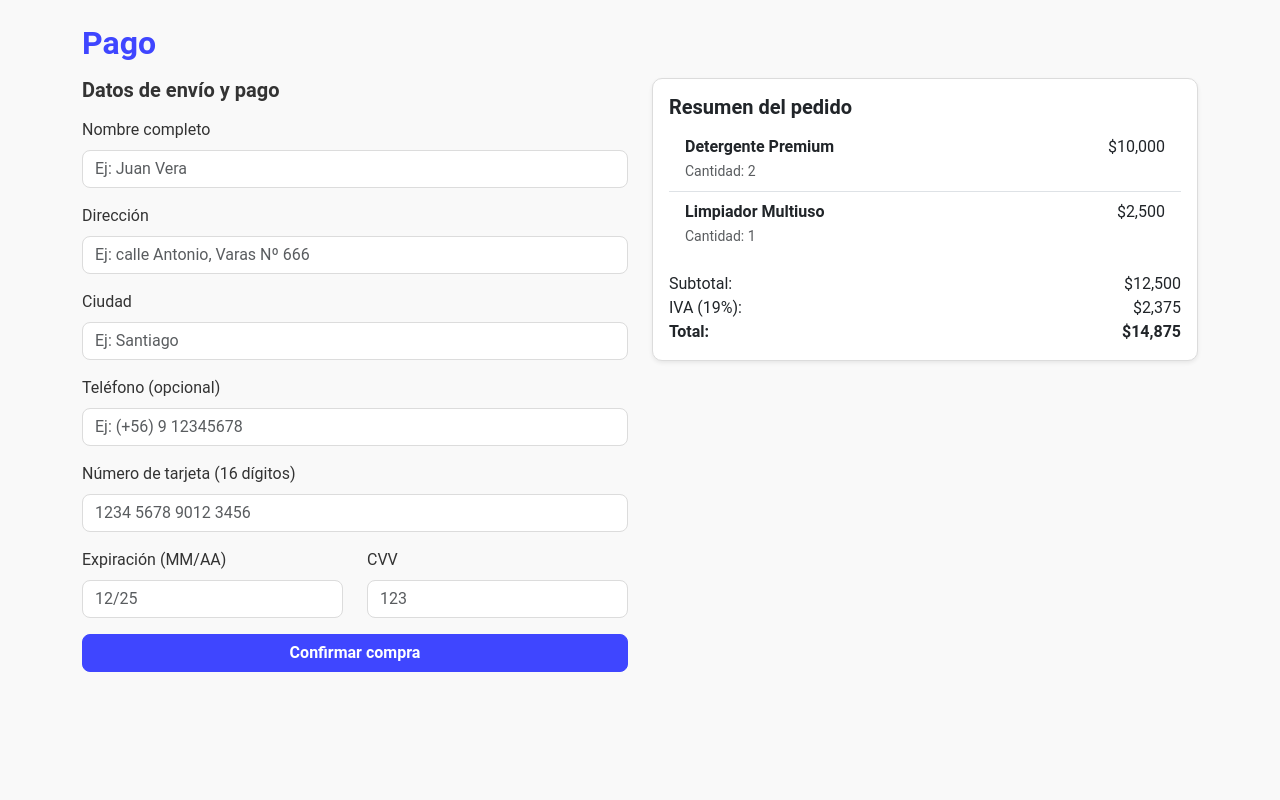
Test: Pago Page › Validaciones del formulario › debe mostrar error si el CVV es muy corto
The image size is (1280, 800).
In the field with placeholder "Ej: Juan Vera": (355, 169) 82,150 -> 628,188, type "Juan Pérez"
In the field with placeholder "Ej: calle Antonio, Varas Nº 666": (355, 255) 82,236 -> 628,274, type "Calle Principal 123"
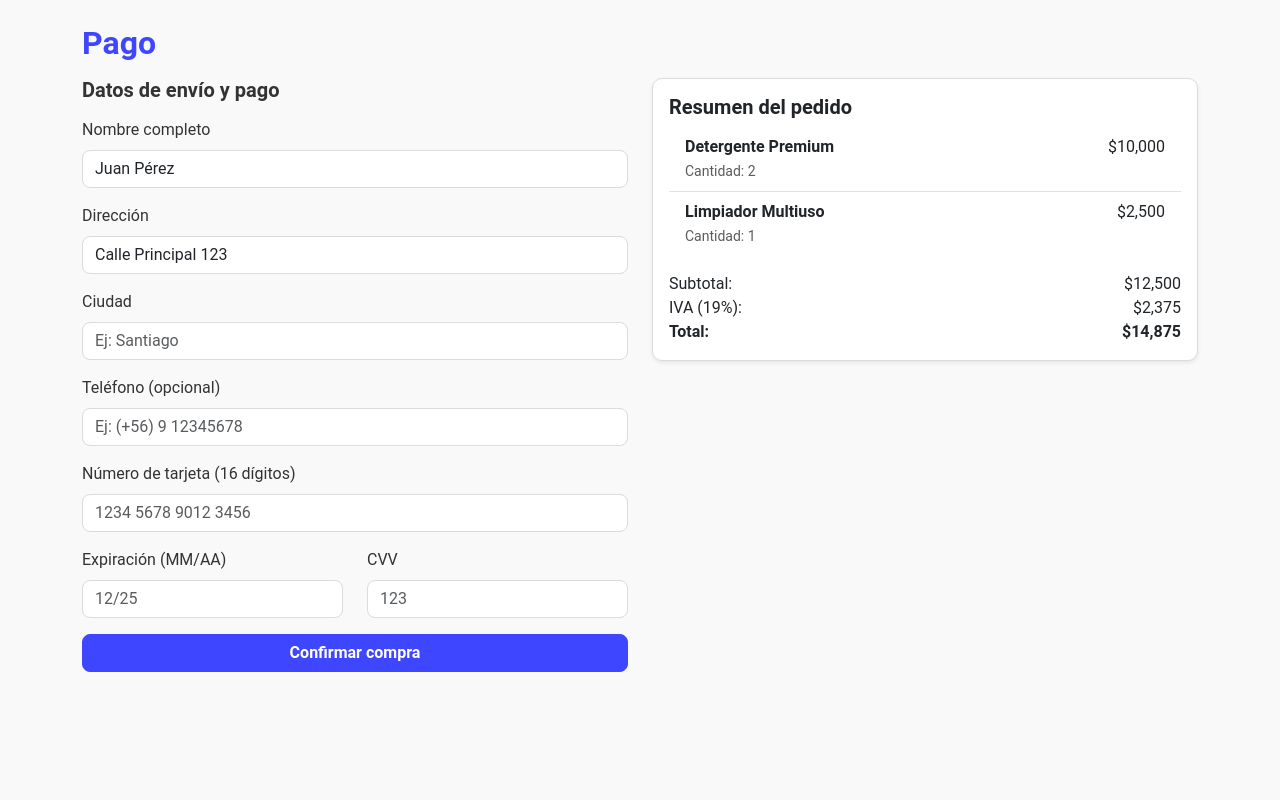
In the field with placeholder "Ej: Santiago": (355, 341) 82,322 -> 628,360, type "Santiago"
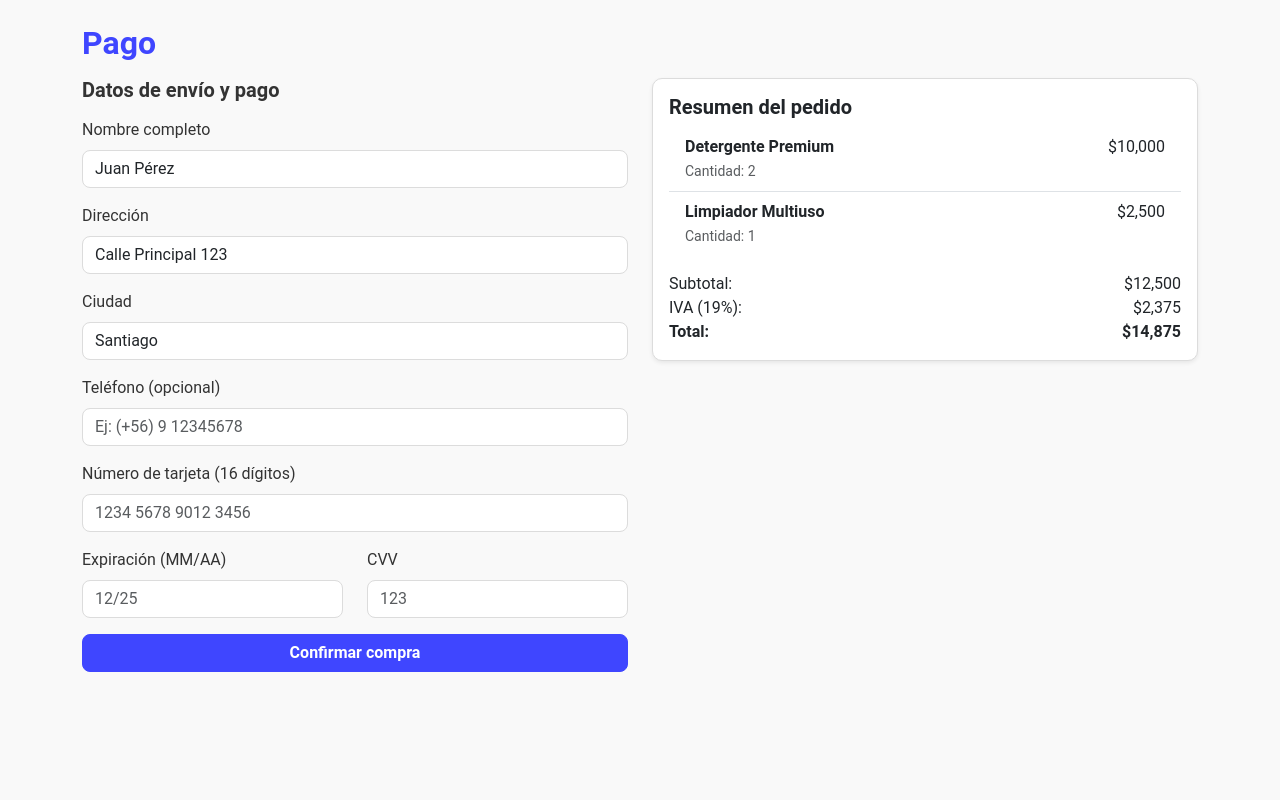
In the field with placeholder "1234 5678 9012 3456": (355, 513) 82,494 -> 628,532, type "1234567890123456"
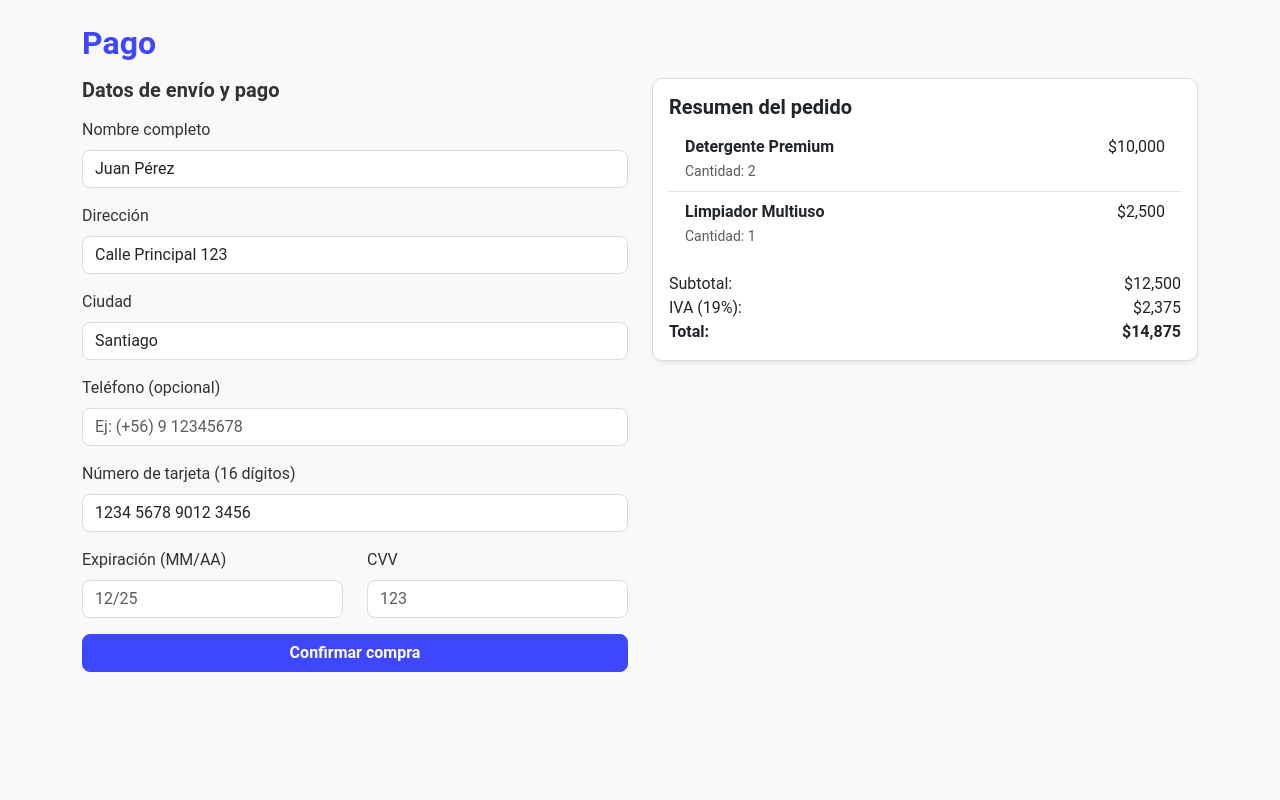
In the field with placeholder "12/25": (212, 599) 82,580 -> 343,618, type "1229"
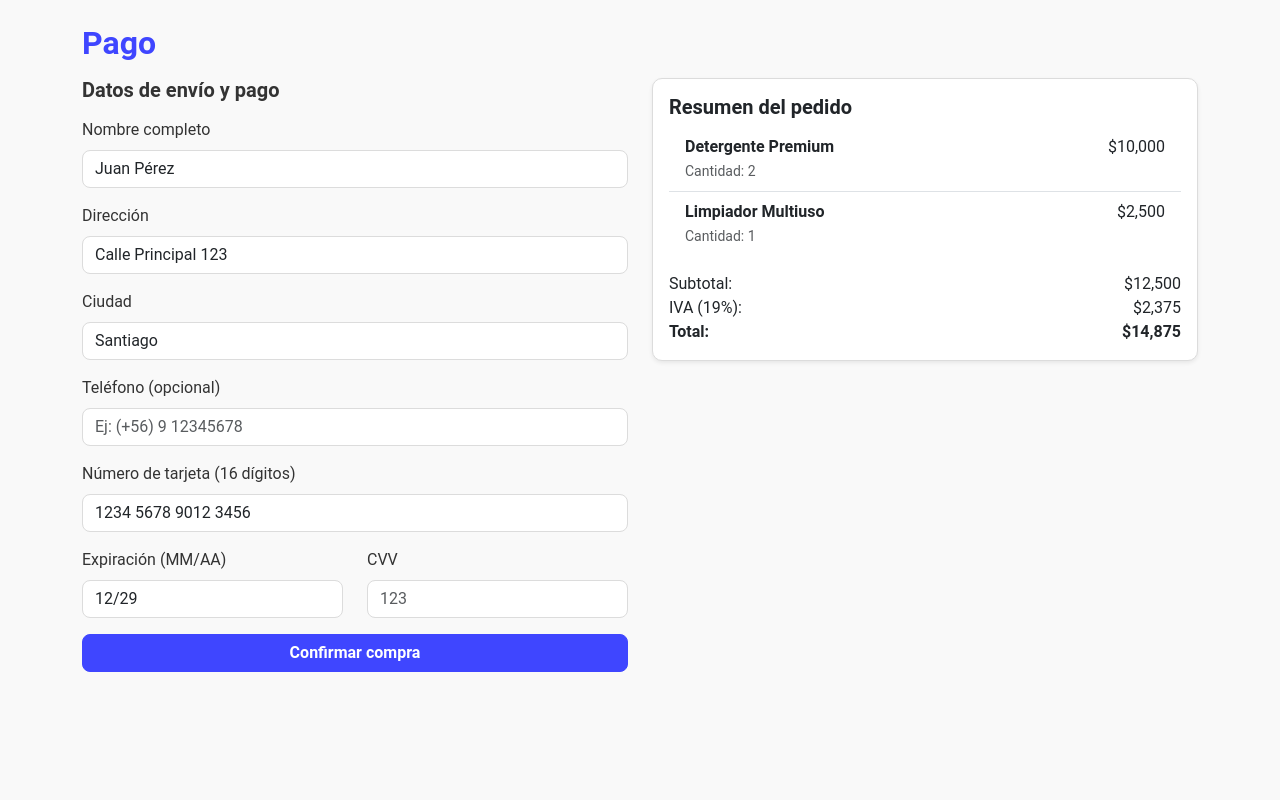
In the field with placeholder "123": (498, 599) 367,580 -> 628,618, type "12"
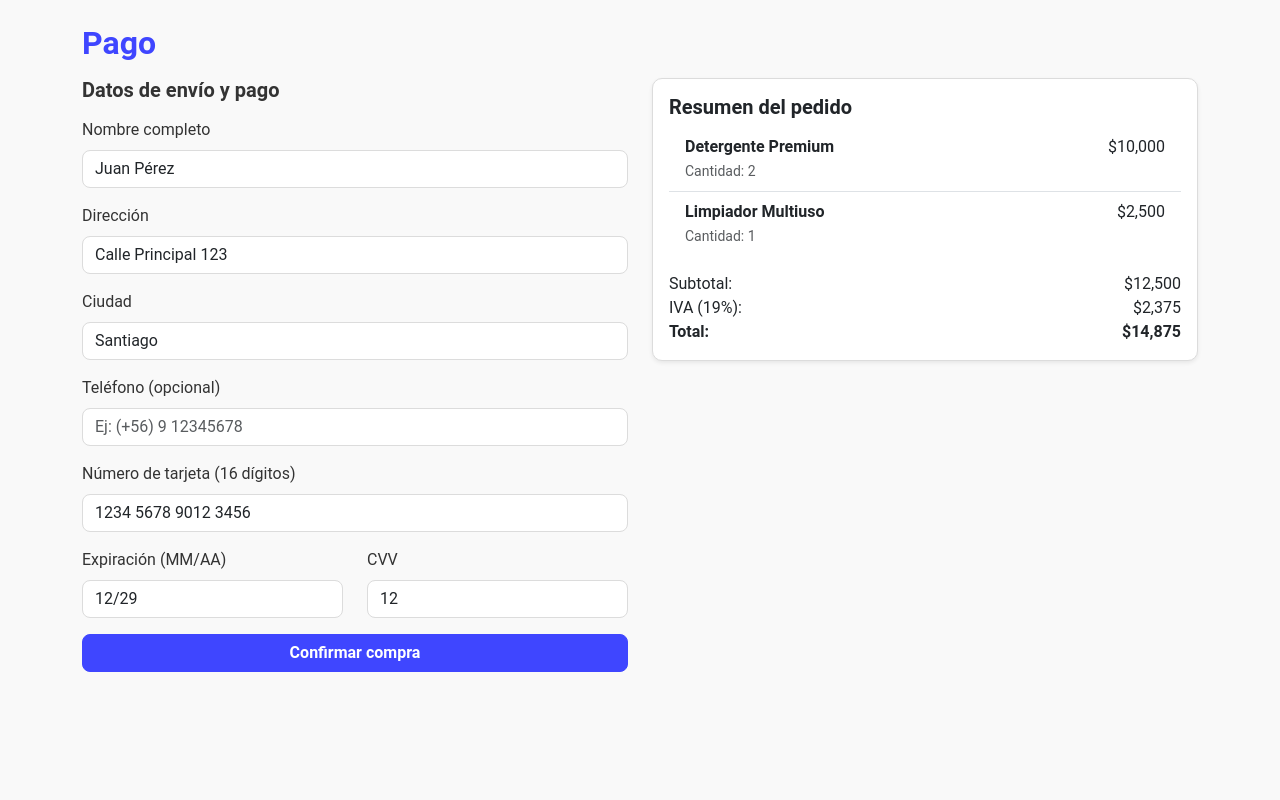
Click the button "Confirmar compra": (355, 653) 82,634 -> 628,672
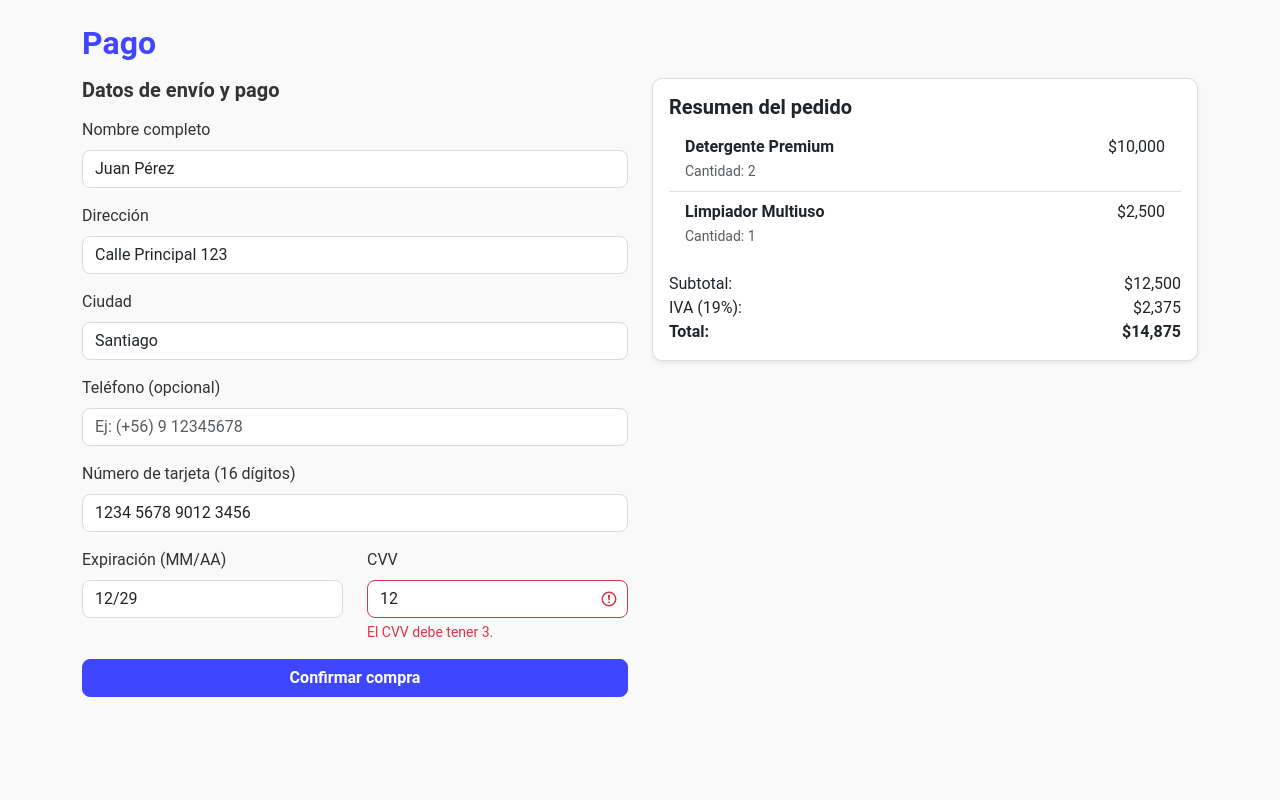
Check: the text "El CVV debe tener 3." is shown, box 367,624 -> 493,640
